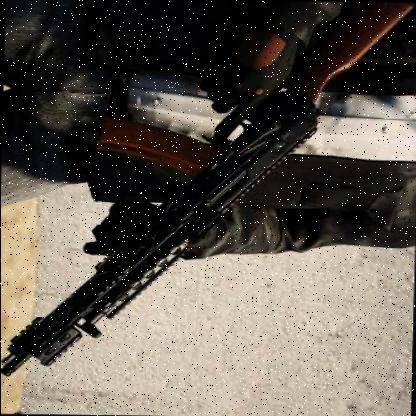rifle: (7, 0, 382, 378)
